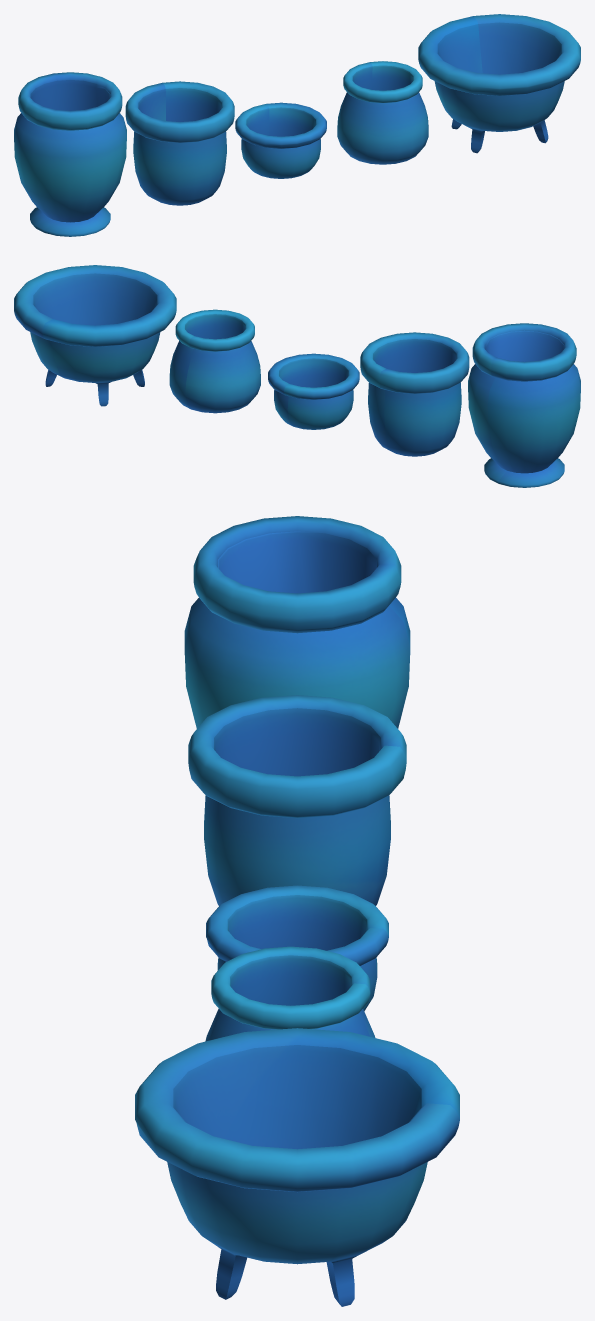
File: m_pots02_01.FBX
3 renders of one model, top to bottom at view 1: azimuth 30°, elevation 25°; view 2: azimuth 150°, elevation 25°; view 3: azimuth 270°, elevation 25°, orthographic. The views are drawn at different scales.
Visible parts, largest first — view 1: Pot_06, Pot_07, Pot_05, Pot_09, Pot_08; view 2: Pot_06, Pot_07, Pot_05, Pot_09, Pot_08; view 3: Pot_07, Pot_06, Pot_05, Pot_09, Pot_08.
Part boxes in pixels (bbox=[...]): Pot_06: bbox=[14, 72, 126, 236]; Pot_07: bbox=[418, 14, 580, 153]; Pot_05: bbox=[125, 81, 234, 205]; Pot_09: bbox=[337, 61, 428, 164]; Pot_08: bbox=[235, 102, 326, 178]; Pot_06: bbox=[468, 323, 580, 487]; Pot_07: bbox=[14, 265, 176, 406]; Pot_05: bbox=[360, 332, 469, 456]; Pot_09: bbox=[169, 309, 260, 413]; Pot_08: bbox=[268, 353, 359, 429]; Pot_07: bbox=[135, 1028, 459, 1306]; Pot_06: bbox=[184, 516, 410, 728]; Pot_05: bbox=[188, 695, 406, 905]; Pot_09: bbox=[205, 946, 375, 1041]; Pot_08: bbox=[206, 885, 388, 1010].
Size of the model in its own units: 473 by 121 by 121.
